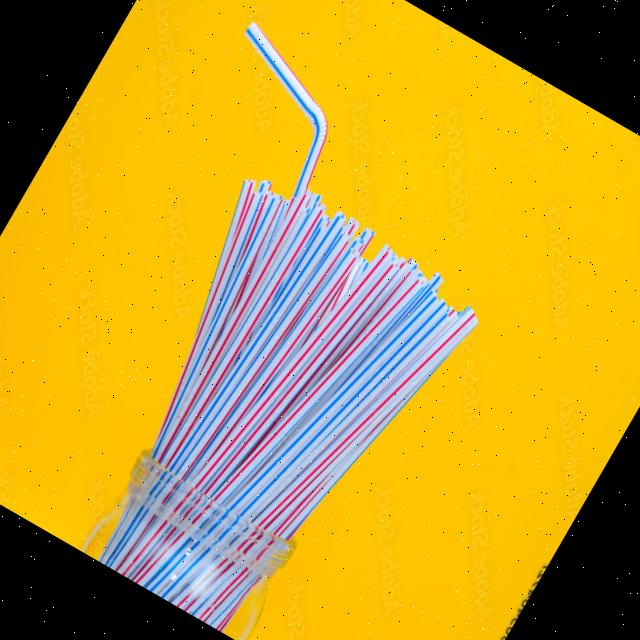plastic: (183, 0, 398, 192)
